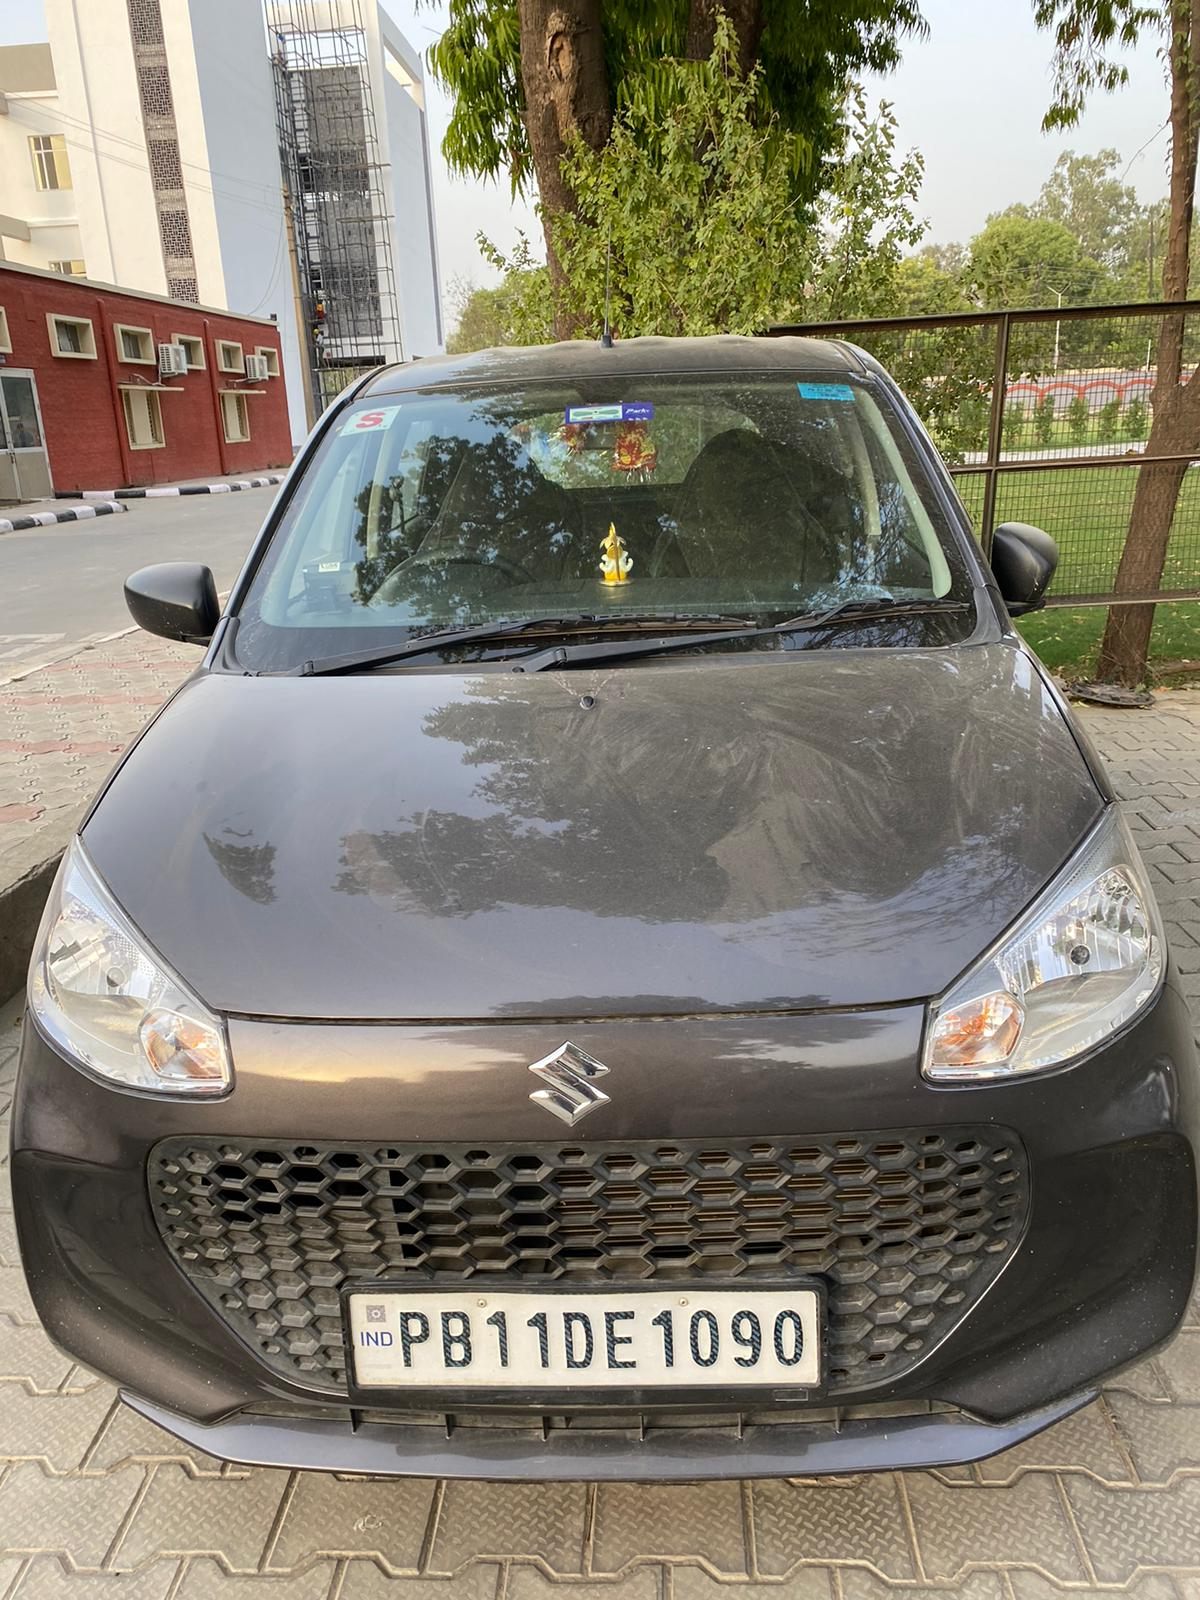license plate: (346, 1286, 821, 1390)
